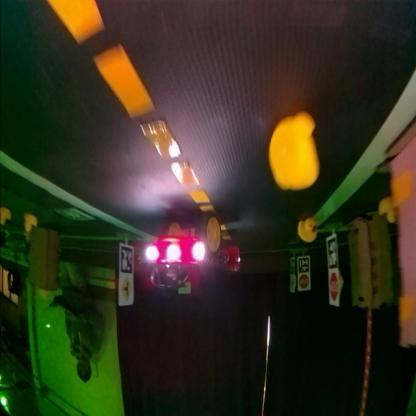Duckie: (270, 116, 320, 190), (298, 218, 318, 244), (379, 198, 398, 224), (24, 216, 38, 234), (1, 208, 12, 227)
Duckiebot: (146, 218, 240, 283)
Intersection sign: (122, 278, 132, 302)
QR code: (122, 247, 134, 275), (328, 240, 338, 268), (299, 259, 310, 271)
Stop sign: (330, 272, 340, 302), (300, 275, 310, 290)
